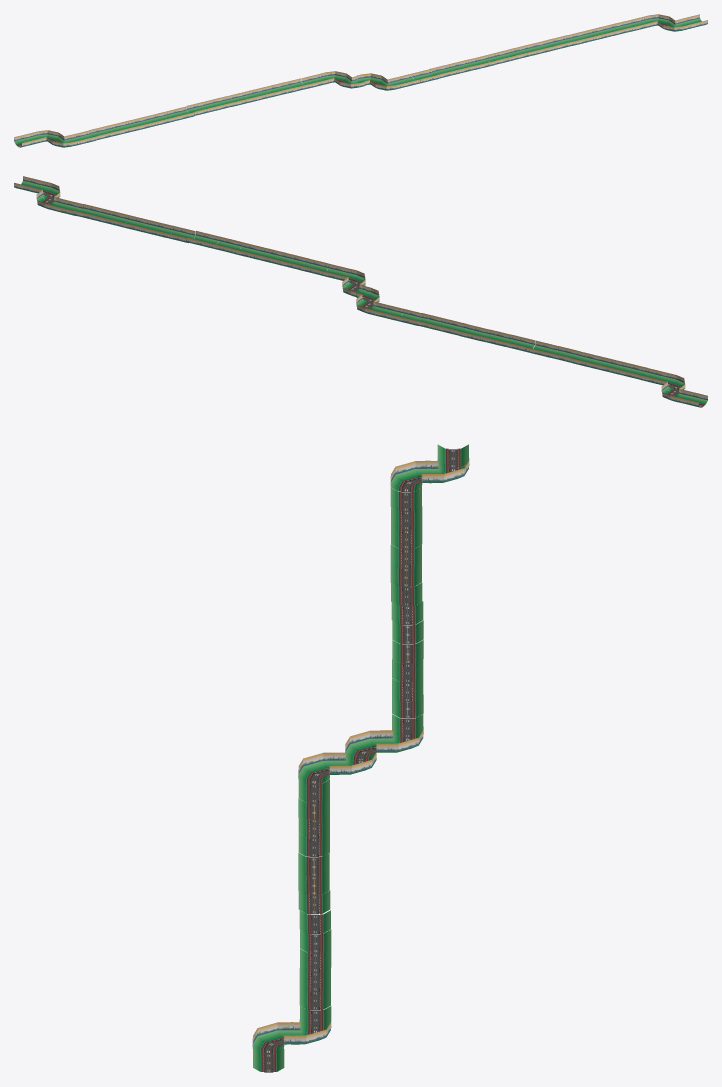
The model's file is road.glb.
The picture shows the model from 3 angles, top to bottom: view 1: azimuth 30°, elevation 25°; view 2: azimuth 150°, elevation 25°; view 3: azimuth 270°, elevation 25°; orthographic projection. The views are drawn at different scales.
Visible parts, largest first — view 1: Turn_0.001, Turn_0.003; view 2: Turn_0.001, Turn_0.003; view 3: Turn_0.001, Turn_0.003.
Part boxes in pixels (x1=…): Turn_0.001: x1=14, y1=71, x2=365, y2=147; Turn_0.003: x1=357, y1=14, x2=707, y2=90; Turn_0.001: x1=356, y1=286, x2=707, y2=407; Turn_0.003: x1=14, y1=177, x2=365, y2=296; Turn_0.001: x1=345, y1=444, x2=469, y2=759; Turn_0.003: x1=252, y1=752, x2=376, y2=1070.
Bounding box in the file's own units: 603 × 6.73 × 88.34.
17 materials, 17 textured.
